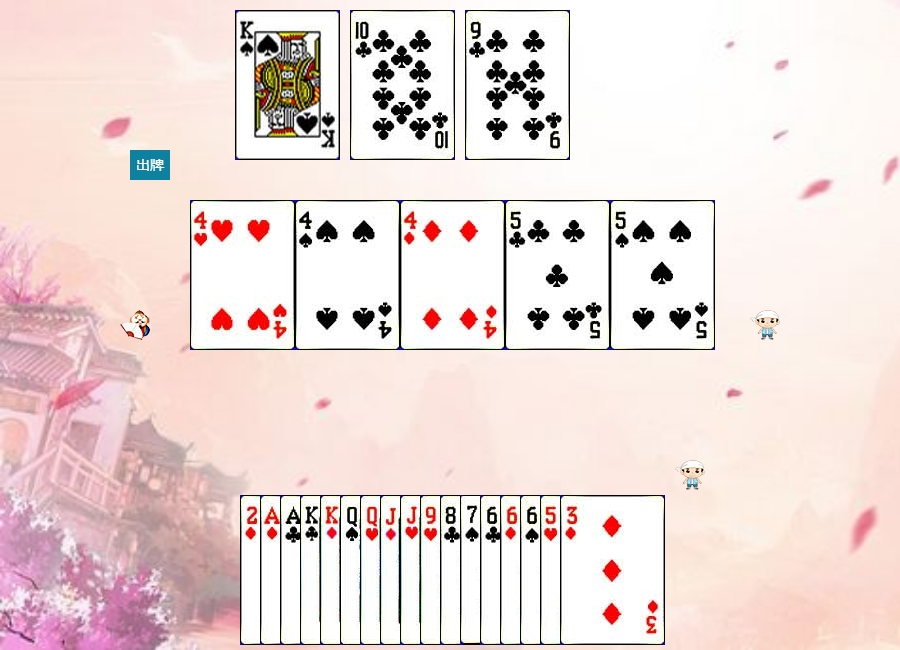10~2: (350, 10, 455, 160)
11~1: (380, 495, 485, 645)
11~3: (400, 495, 505, 645)
12~3: (360, 495, 465, 645)
12~4: (340, 495, 445, 645)
13~1: (320, 495, 425, 645)
13~2: (300, 495, 405, 645)
13~4: (235, 10, 340, 160)
14~1: (260, 495, 365, 645)
14~2: (280, 495, 385, 645)
15~1: (240, 495, 345, 645)
3~1: (560, 495, 665, 645)
4~1: (400, 200, 505, 350)
4~3: (190, 200, 295, 350)
4~4: (295, 200, 400, 350)
5~2: (505, 200, 610, 350)
5~3: (540, 495, 645, 645)
5~4: (610, 200, 715, 350)
6~1: (500, 495, 605, 645)
6~2: (480, 495, 585, 645)
6~4: (520, 495, 625, 645)
7~4: (460, 495, 565, 645)
8~2: (440, 495, 545, 645)
9~2: (465, 10, 570, 160)
9~3: (420, 495, 525, 645)
